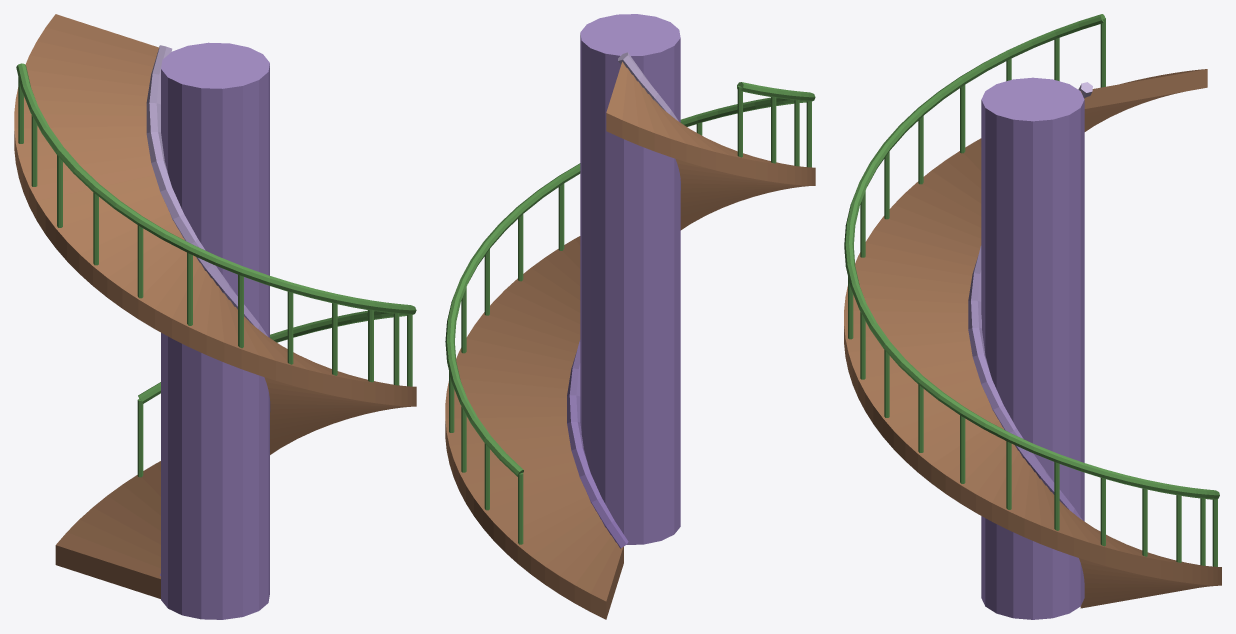
The model's file is goo_jar_stair@mushroom.fbx.
3 views of the same model, side by side, from view 1: azimuth 30°, elevation 25°; view 2: azimuth 150°, elevation 25°; view 3: azimuth 270°, elevation 25° (orthographic). The views are drawn at different scales.
Visible parts, largest first — view 1: goo_jar_stair; view 2: goo_jar_stair; view 3: goo_jar_stair.
Part boxes in pixels (bbox=[...]): goo_jar_stair: bbox=[14, 14, 416, 619]; goo_jar_stair: bbox=[445, 14, 815, 619]; goo_jar_stair: bbox=[844, 14, 1221, 619].
Size of the model in its own units: 10.99 by 17.03 by 10.99.
